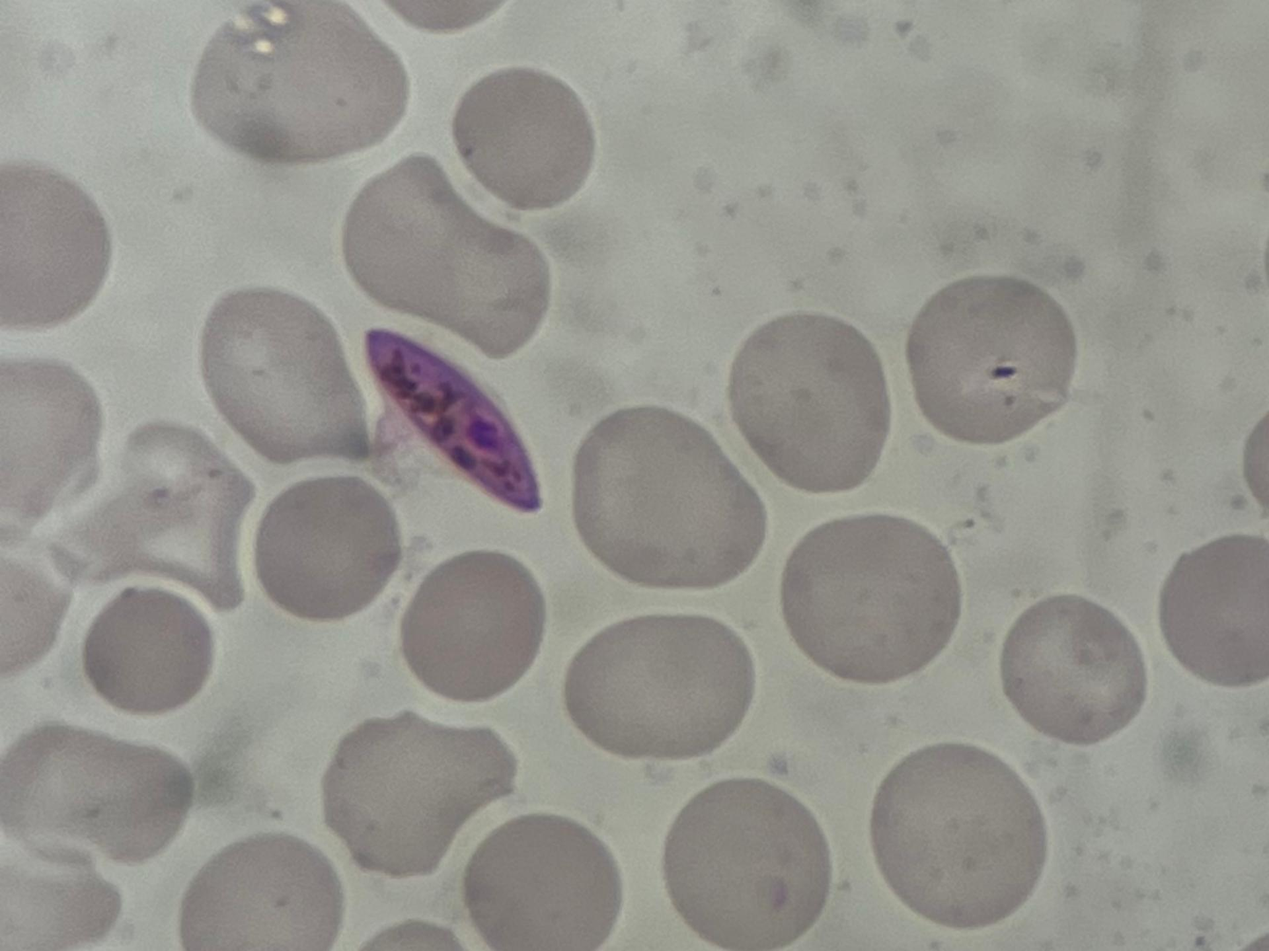Infected: (360, 329, 537, 522)
Uninfected: (342, 159, 553, 358), (573, 404, 767, 591), (188, 0, 408, 156), (326, 704, 515, 878), (202, 285, 376, 468), (871, 744, 1047, 924), (724, 314, 894, 495), (664, 774, 832, 951), (783, 514, 959, 680), (567, 612, 754, 766), (904, 278, 1077, 444), (0, 722, 191, 865), (1003, 593, 1153, 746), (397, 549, 547, 702), (254, 475, 400, 624), (468, 814, 623, 951), (454, 68, 594, 213), (178, 831, 343, 951), (0, 164, 108, 336), (1160, 536, 1269, 689), (86, 587, 214, 715)
